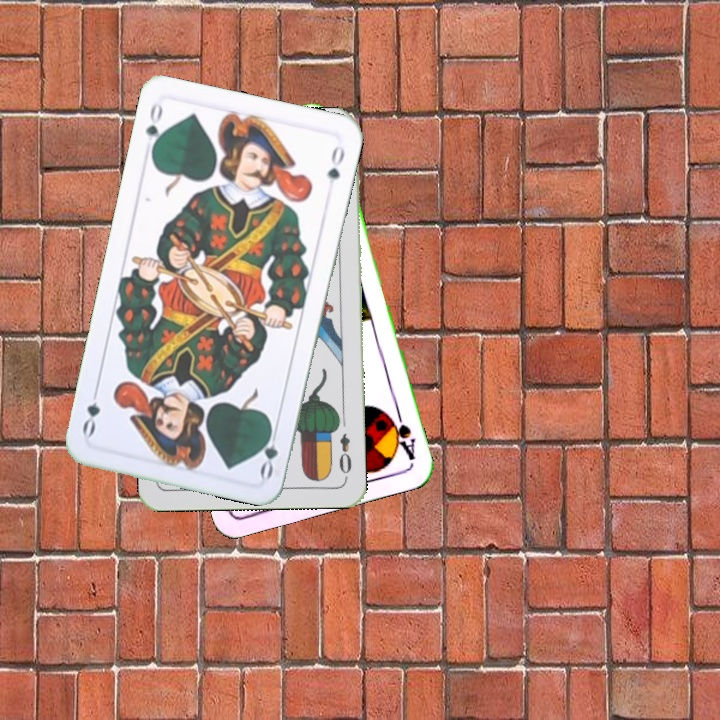EO: (334, 429, 355, 476)
GO: (141, 98, 167, 159), (255, 421, 281, 481)
SA: (383, 405, 419, 463)
